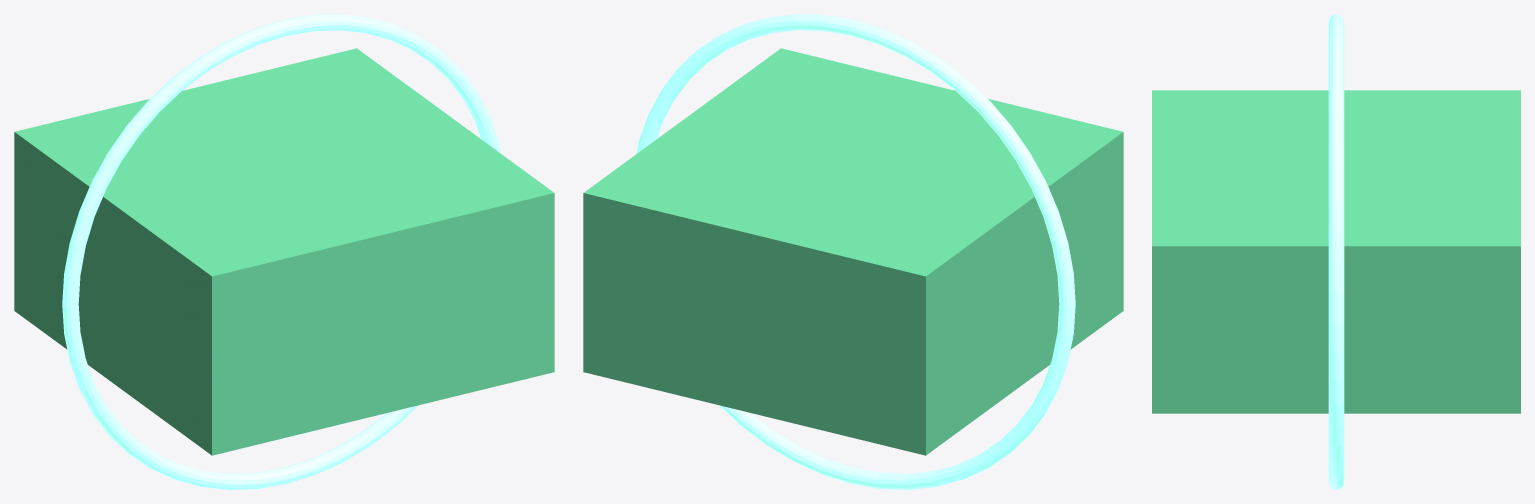
File: enemy_v2_tank.glb
The picture shows the model from 3 angles, left to right: view 1: azimuth 30°, elevation 25°; view 2: azimuth 150°, elevation 25°; view 3: azimuth 270°, elevation 25°; orthographic projection. The views are drawn at different scales.
Parts seen in each view (by area): view 1: Cube, Torus; view 2: Cube, Torus; view 3: Cube, Torus.
Boxes of the visible parts, left/top/right/bottom form: Cube: left=14, top=48, right=554, bottom=455; Torus: left=62, top=14, right=501, bottom=489; Cube: left=583, top=48, right=1123, bottom=455; Torus: left=636, top=14, right=1075, bottom=489; Cube: left=1152, top=90, right=1520, bottom=413; Torus: left=1328, top=14, right=1344, bottom=489.
Bounding box in the file's own units: 3.1 × 3.1 × 2.4.
